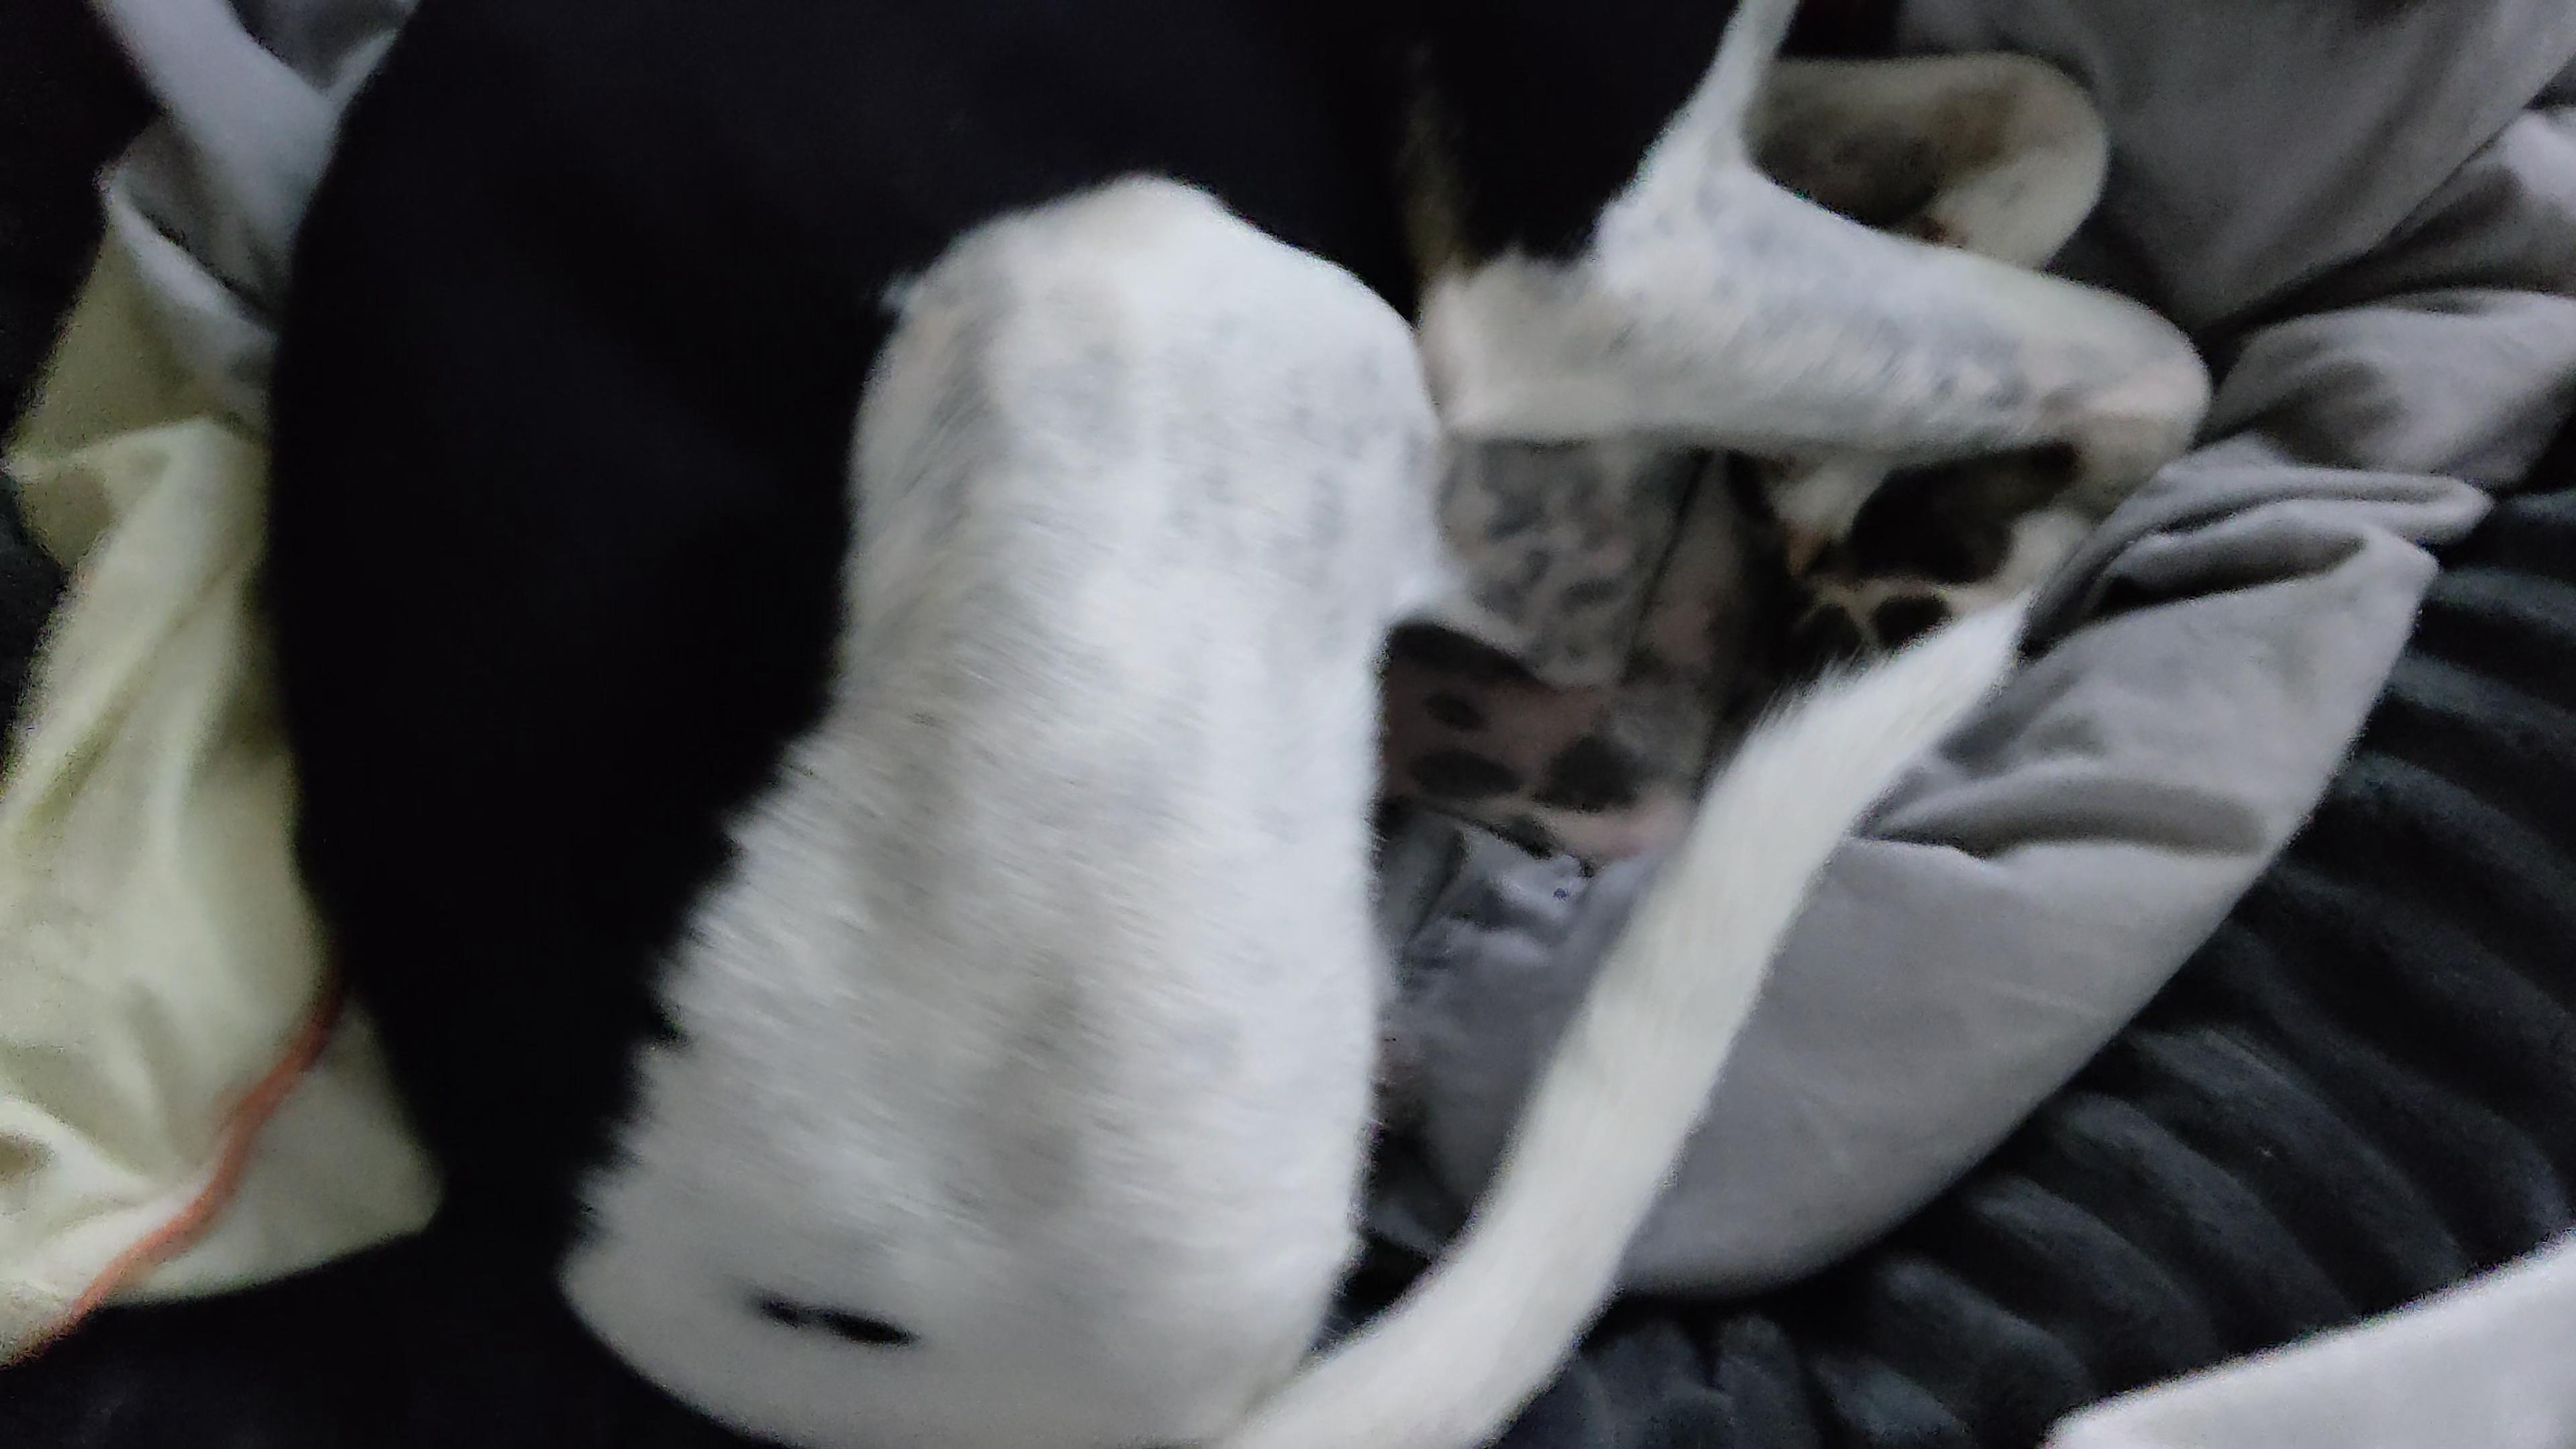Dog: (186, 0, 2245, 1449)
